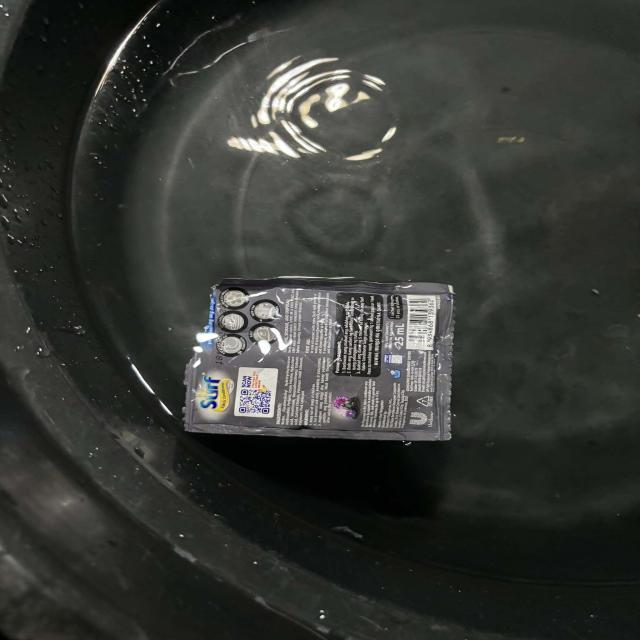Plastic Wrapper: (134, 222, 505, 457)
